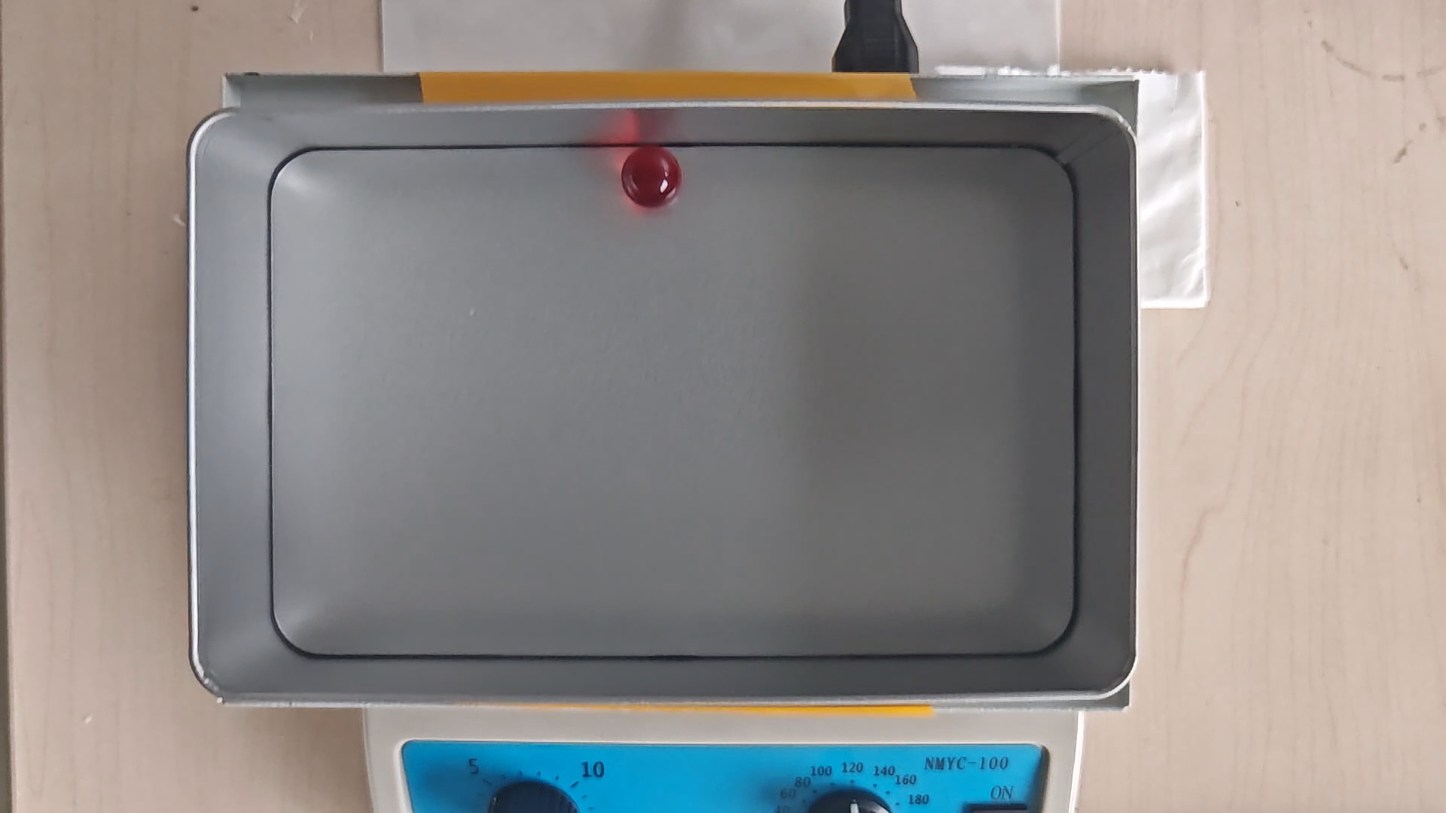ball: (621, 145, 683, 208)
container: (267, 146, 1077, 656)
